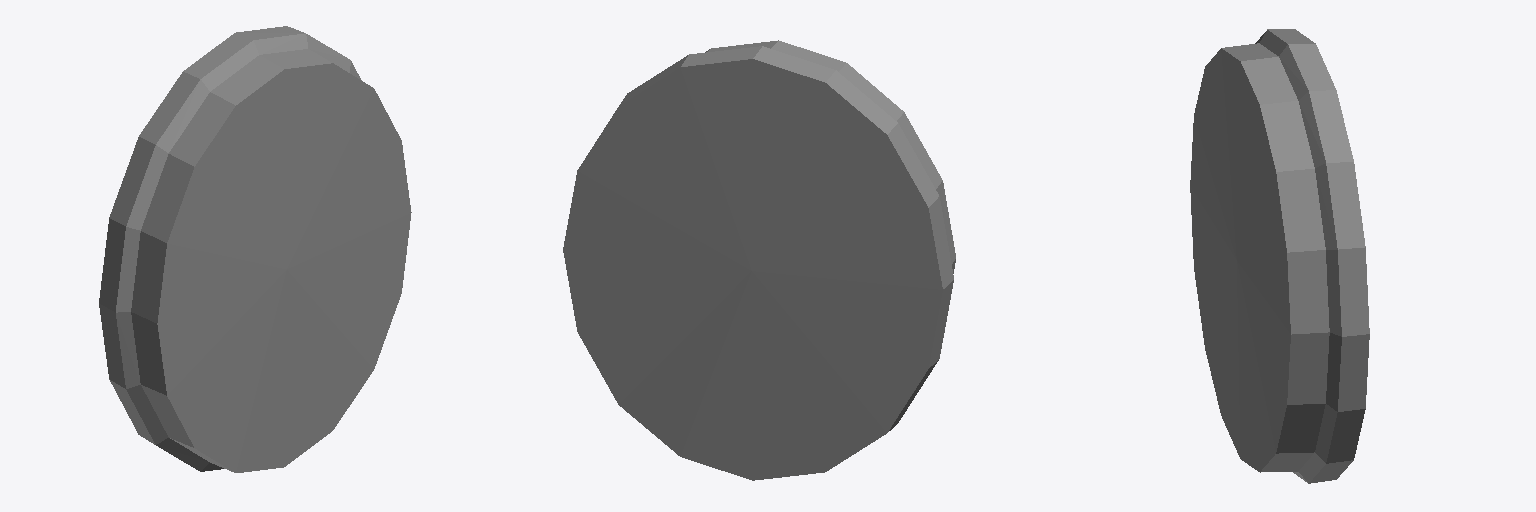
The model's file is LlantaDer5.obj.
3 renders of one model, left to right at view 1: azimuth 30°, elevation 25°; view 2: azimuth 150°, elevation 25°; view 3: azimuth 270°, elevation 25°, orthographic.
Visible parts, largest first — view 1: LantaDer5; view 2: LantaDer5; view 3: LantaDer5.
Boxes of the visible parts, x1=… form: LantaDer5: x1=99, y1=26, x2=411, y2=472; LantaDer5: x1=563, y1=40, x2=955, y2=480; LantaDer5: x1=1190, y1=29, x2=1369, y2=483.
Size of the model in its own units: 0.218 by 0.2666 by 0.1021.